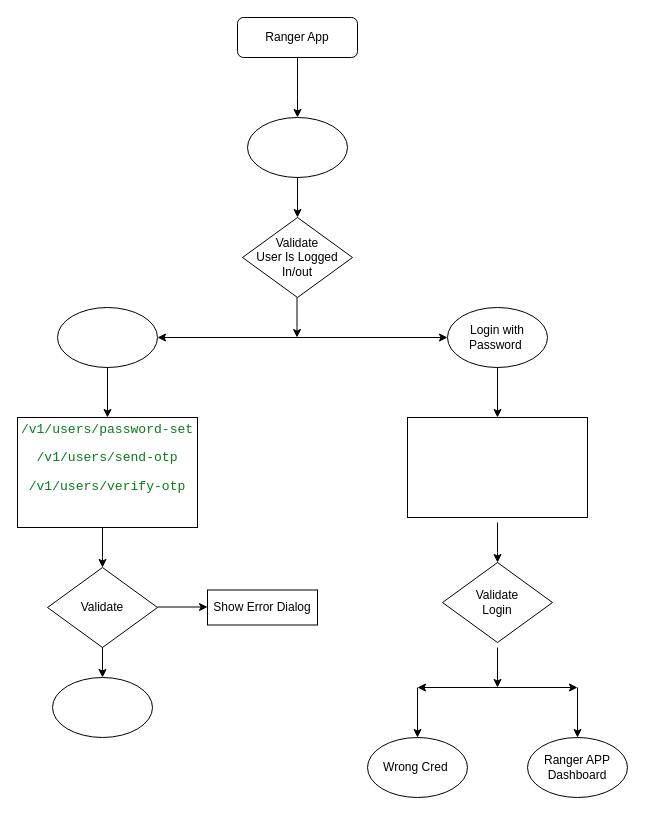
Image size: 645x815. Some labels were removed from this diagram. Here are the shapes that lost their labels. From the top down, the centre of each, then its label:
point 297,147: Splash Activity Class
point 107,337: SignUp
point 497,467: /v1/users/user-login
point 102,707: OTP Screen
